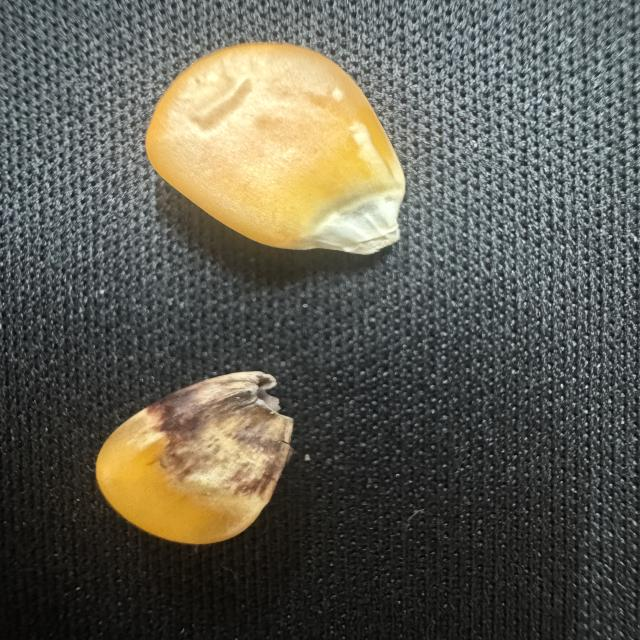Bad-Seed: (97, 357, 296, 559)
Good-Seed: (140, 32, 426, 268)
